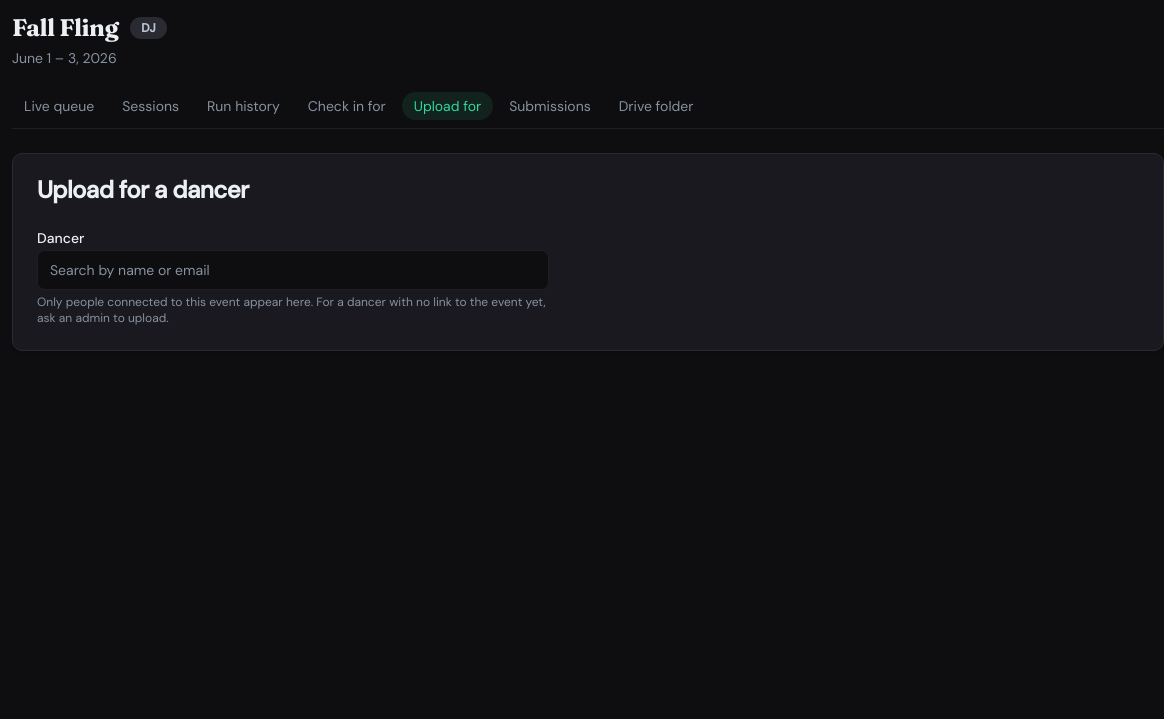
DjPortalPage › picks the dancer before showing the upload form
The image size is (1164, 719).
Type "ada" into the dropdown labelled "Dancer" at (293,270), box [37,250,549,290]
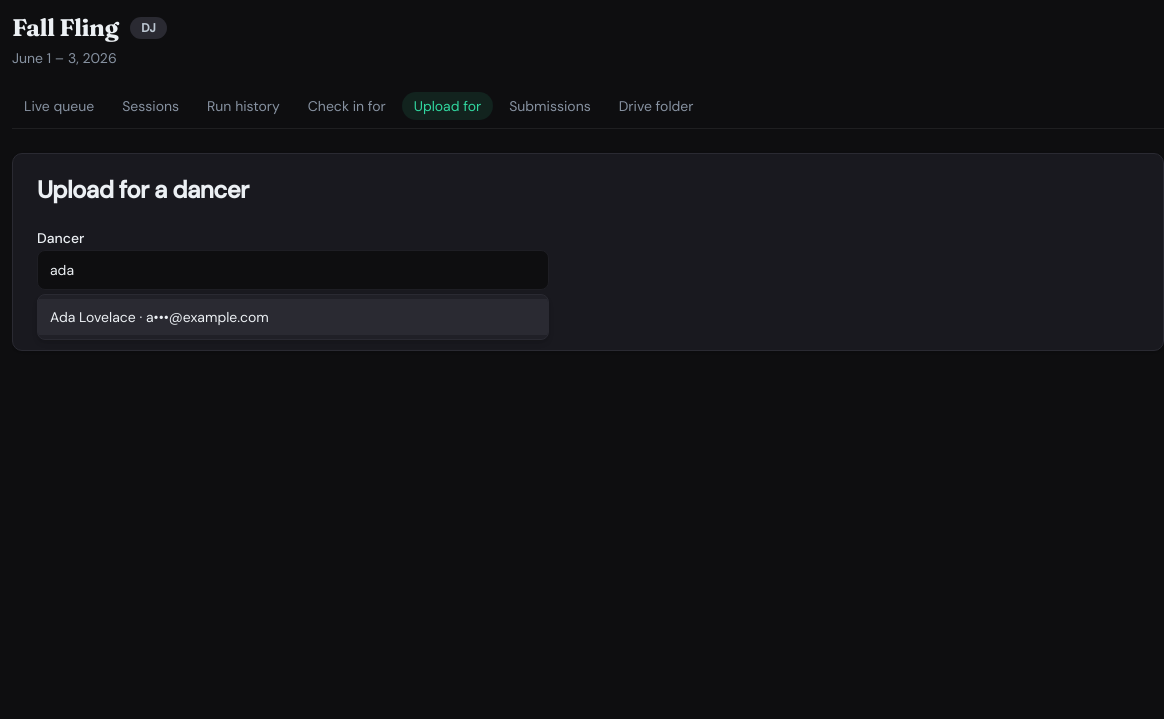
Click the option "Ada Lovelace · a•••@example.com" at (159,317), box [38,299,548,335]
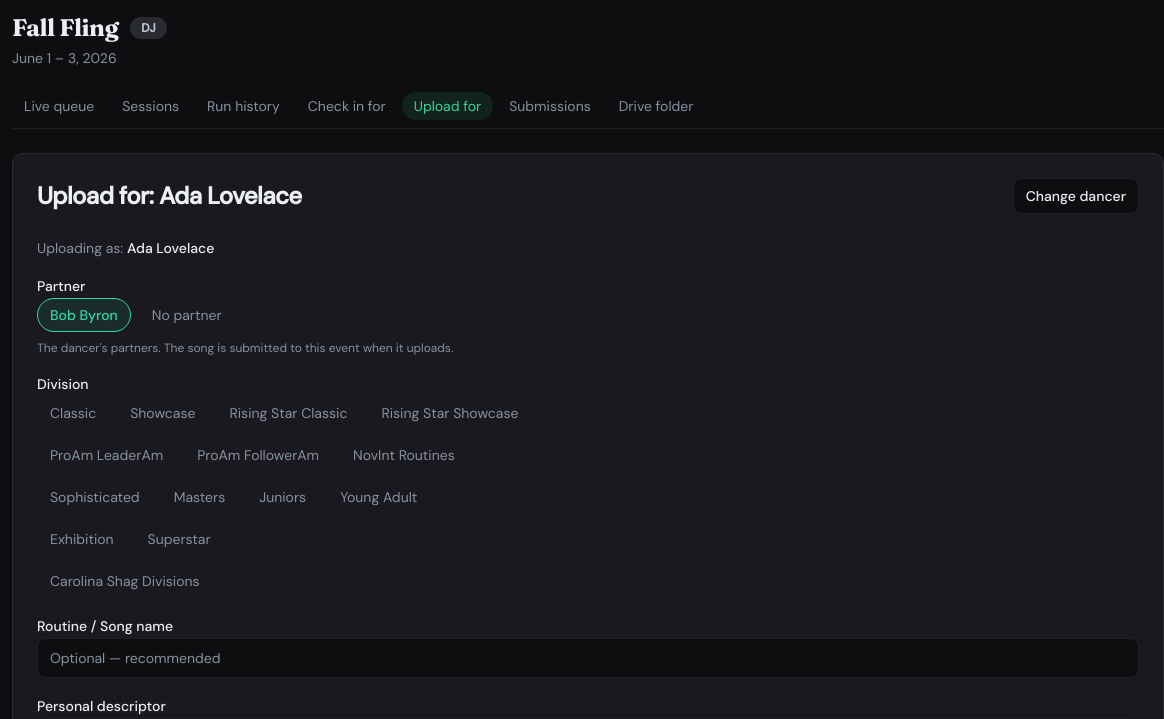
Expected: the text "Upload for: Ada Lovelace" is shown, [37,184,302,208]
Expected: the radio button labelled "Bob Byron" is checked, [37,298,131,332]
Expected: the radio button labelled "No partner" is shown, [139,298,235,332]
